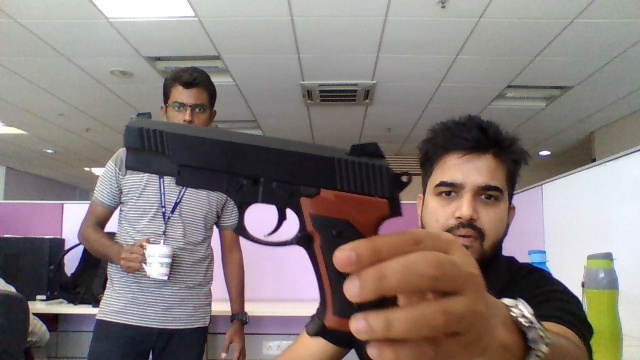gun: (121, 111, 414, 226)
